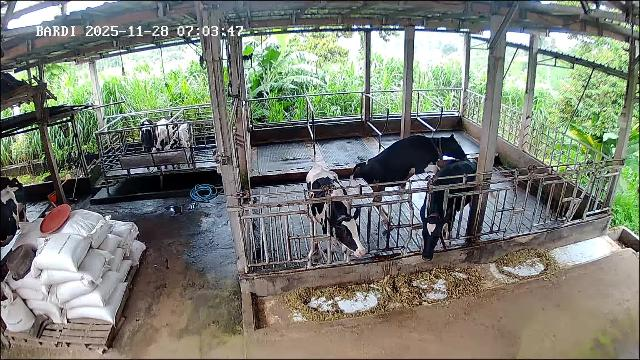mounting: (359, 135, 466, 230)
